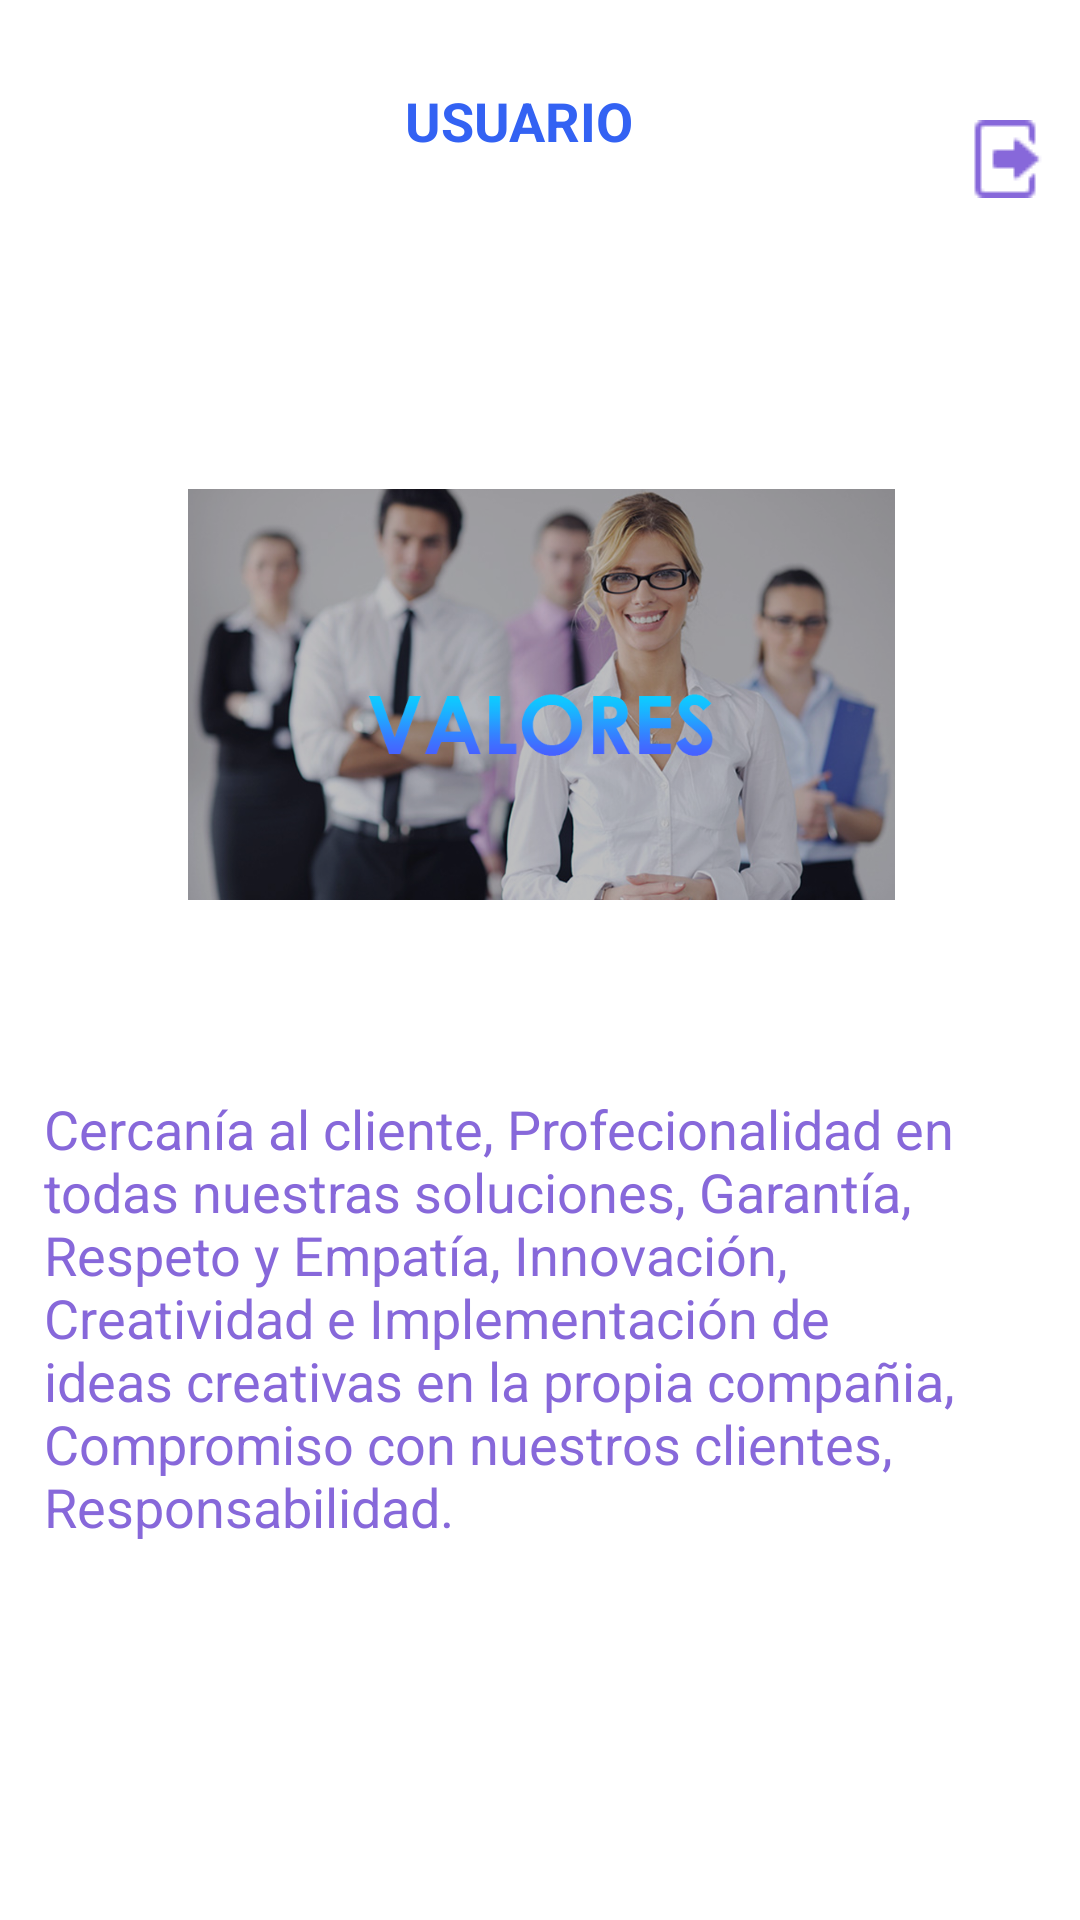

Point at icon controls on the screen. Image size 1080w x 1920h, points as (x,y).
exit: (1006,159)
